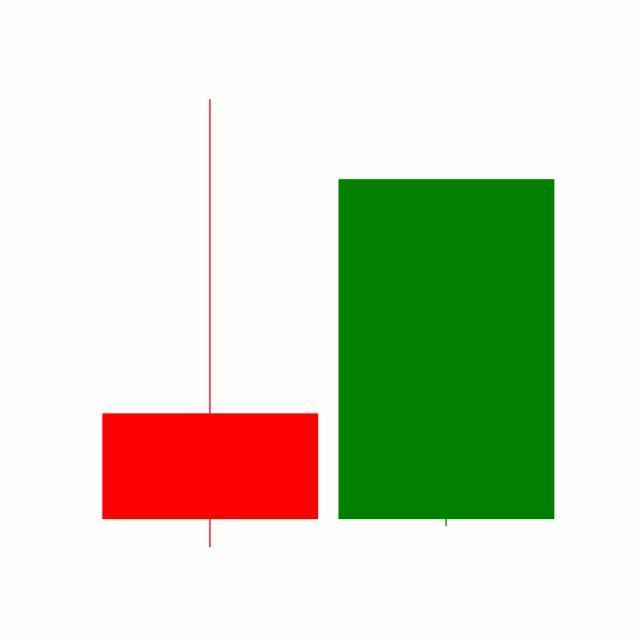Marubozu: (328, 176, 566, 531)
